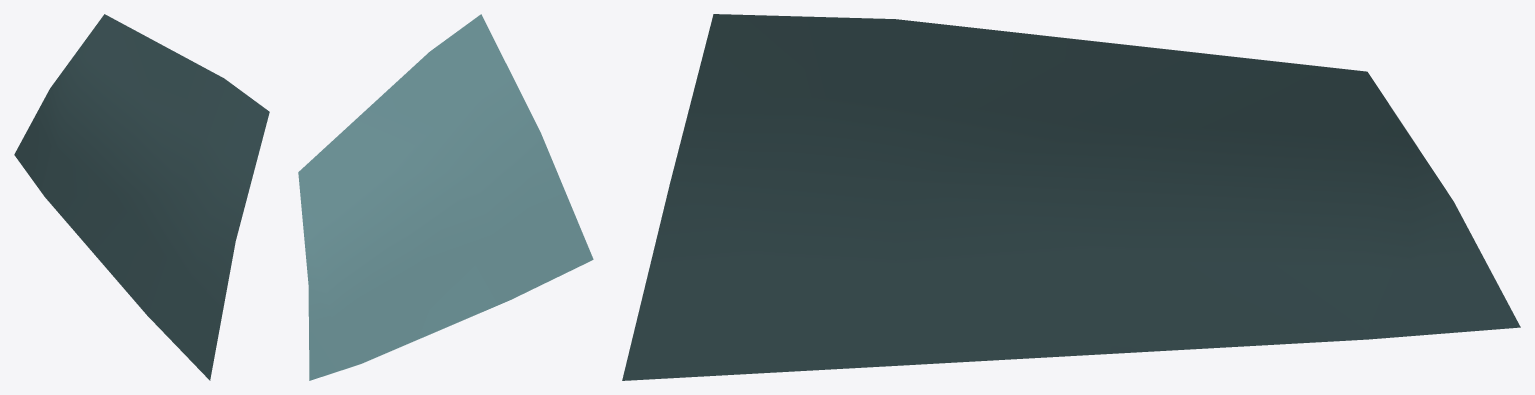
Rendered from Electric_1_Window_Tessellate_MR.fbx.
3 renders of one model, left to right at view 1: azimuth 30°, elevation 25°; view 2: azimuth 150°, elevation 25°; view 3: azimuth 270°, elevation 25°, orthographic. The views are drawn at different scales.
Parts seen in each view (by area): view 1: Electric_1_Window_Tessellate_MR; view 2: Electric_1_Window_Tessellate_MR; view 3: Electric_1_Window_Tessellate_MR.
Boxes of the visible parts, x1,y1,x2,y2 form: Electric_1_Window_Tessellate_MR: (14, 14, 269, 380); Electric_1_Window_Tessellate_MR: (298, 14, 593, 380); Electric_1_Window_Tessellate_MR: (622, 14, 1520, 380).
Size of the model in its own units: 14.27 by 35.83 by 65.53.
